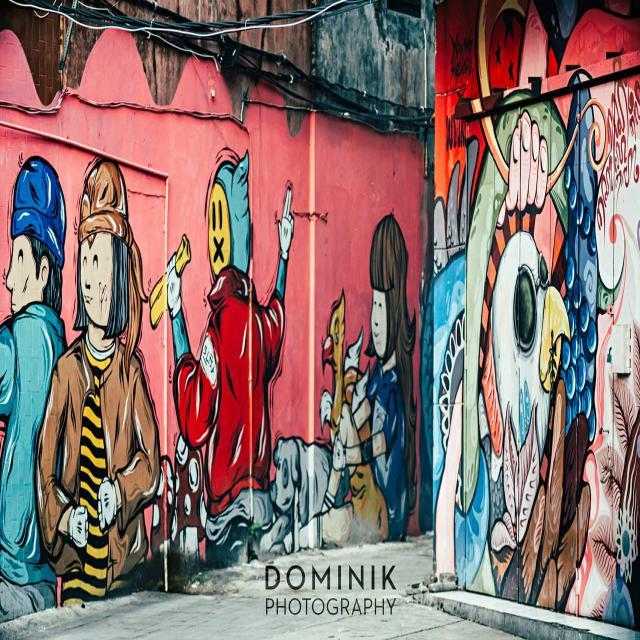-: (433, 1, 638, 630), (150, 150, 417, 550), (2, 152, 158, 614)
